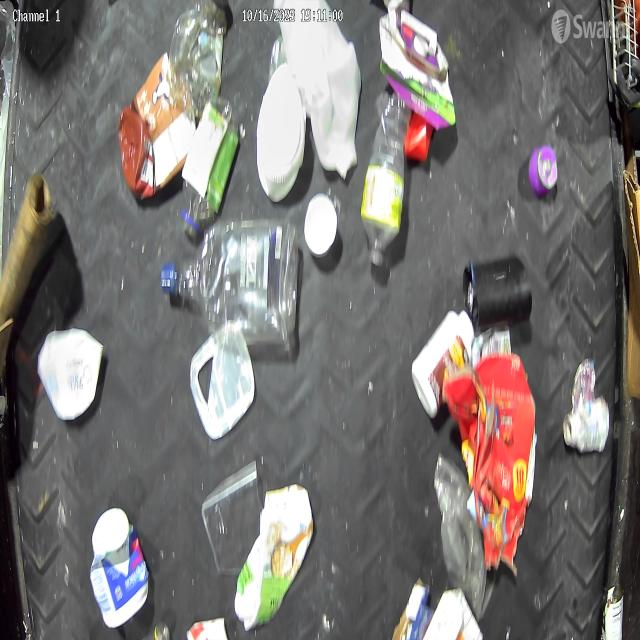can: (526, 144, 560, 201), (601, 582, 625, 640)
milk_jug: (272, 0, 362, 182)
non_white_jug: (118, 47, 197, 204)
plastic_bottle: (160, 217, 302, 352), (360, 89, 416, 268), (180, 93, 242, 240)
